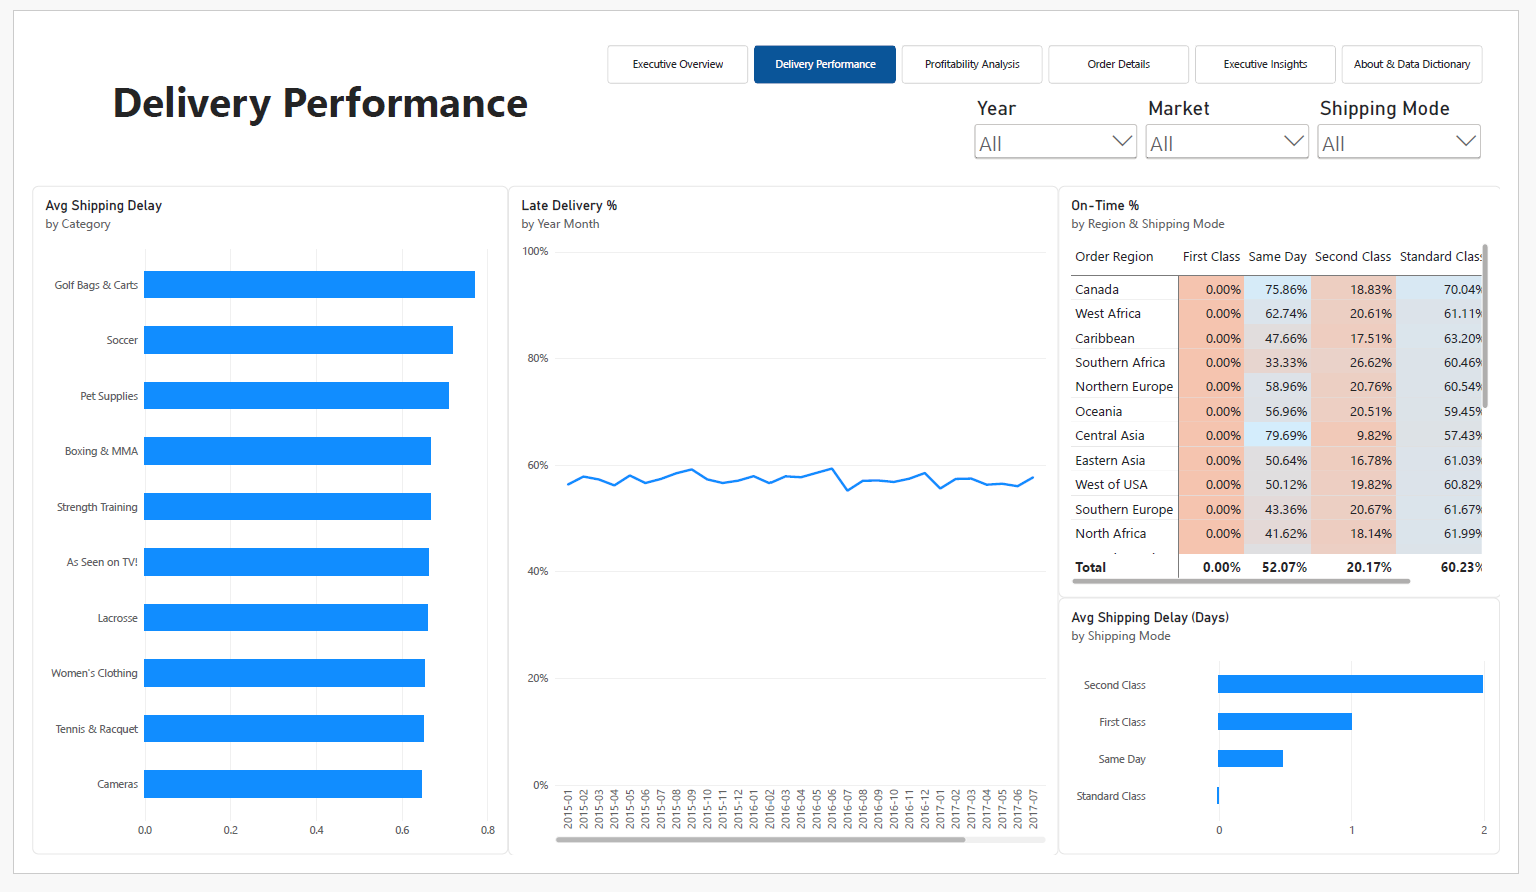

What the dashboard file says about the page in this screenshot:
{"tool":"powerbi","page":{"name":"Delivery Performance","canvas":[1920,1080],"ordinal":1},"visuals":[{"type":"textbox","box":[0,0,753.5,202.7],"z":0},{"type":"pivotTable","title":"On-Time %","fields":{"Columns":["Dim_ShippingMode.Shipping Mode"],"Rows":["Dim_Geography.Order Region"],"Values":["_Measures.On-Time %"]},"box":[1342.5,204.6,579.4,539.3],"z":1000},{"type":"clusteredBarChart","fields":{"Category":["Dim_Products.Category Name"],"Y":["_Measures.Avg Shipping Delay (Days)"]},"box":[0,204.6,623.4,875.9],"z":2000},{"type":"lineChart","fields":{"Category":["Dim_Date.Year Month"],"Y":["_Measures.Late Delivery %"]},"box":[623.4,204.6,719,877.8],"z":3000},{"type":"clusteredBarChart","fields":{"Category":["Dim_ShippingMode.Shipping Mode"],"Y":["_Measures.Avg Shipping Delay (Days)"]},"box":[1342,744,578,336],"z":4000},{"type":"slicer","fields":{"Values":["Dim_Date.Year"]},"box":[1226.7,87,223.7,100],"z":5000},{"type":"slicer","fields":{"Values":["Dim_Geography.Market"]},"box":[1451.4,87,223.7,100],"z":6000},{"type":"slicer","fields":{"Values":["Dim_ShippingMode.Shipping Mode"]},"box":[1676,87,223.7,100],"z":7000},{"type":"pageNavigator","box":[753.5,21,1147.4,49.7],"z":8000}]}

Visuals, with their boxes on the page's 1920x1080 design canvas (x1, y1, x2, y2). These are canvas units, not pixel positions in the 1536x892 screenshot, which may show the page scaled, cropped or inside an application window:
textbox: select_region(0, 0, 754, 203)
"On-Time %" pivotTable: select_region(1342, 205, 1922, 744)
clusteredBarChart - Dim_Products.Category Name x _Measures.Avg Shipping Delay (Days): select_region(0, 205, 623, 1080)
lineChart - Dim_Date.Year Month x _Measures.Late Delivery %: select_region(623, 205, 1342, 1082)
clusteredBarChart - Dim_ShippingMode.Shipping Mode x _Measures.Avg Shipping Delay (Days): select_region(1342, 744, 1920, 1080)
slicer - Dim_Date.Year: select_region(1227, 87, 1450, 187)
slicer - Dim_Geography.Market: select_region(1451, 87, 1675, 187)
slicer - Dim_ShippingMode.Shipping Mode: select_region(1676, 87, 1900, 187)
pageNavigator: select_region(754, 21, 1901, 71)
